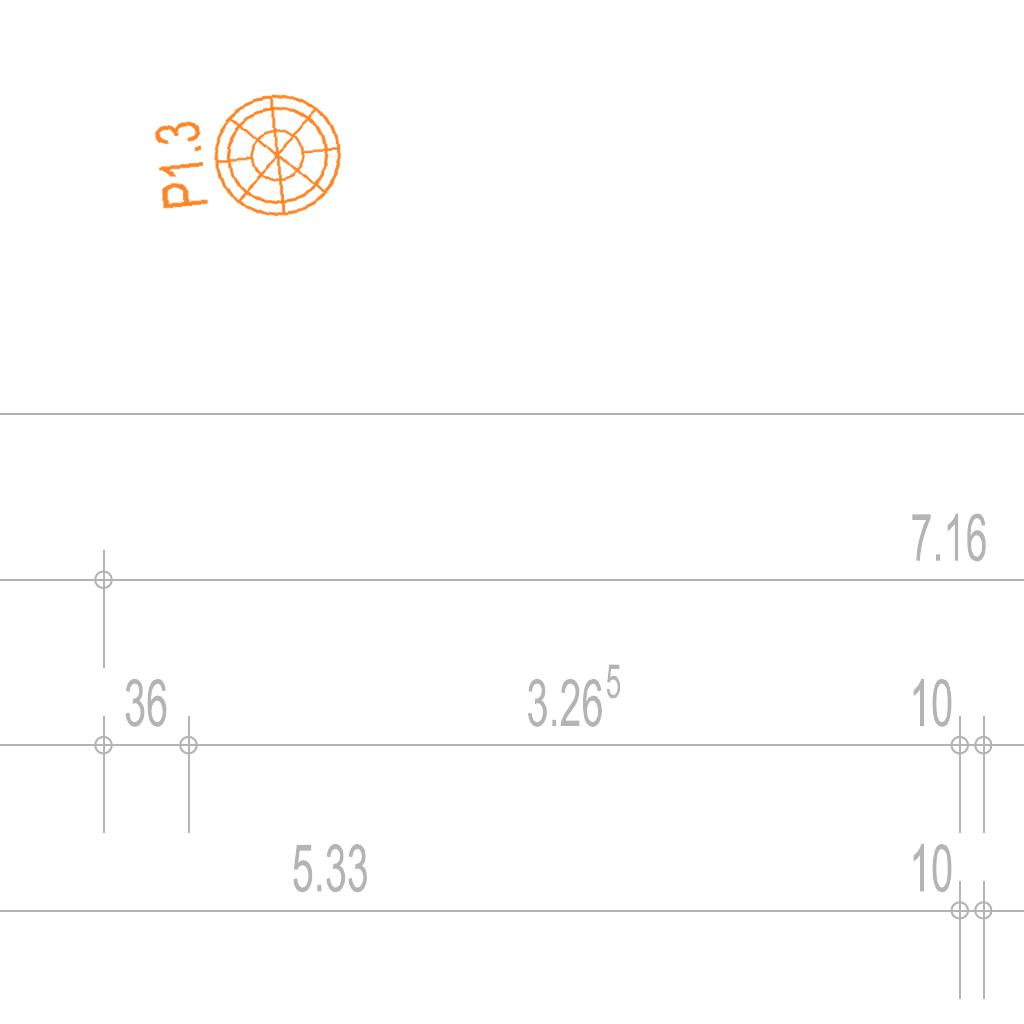Aufbaurundleuchte_LED_Treppenhaus: (132, 73, 351, 234)
